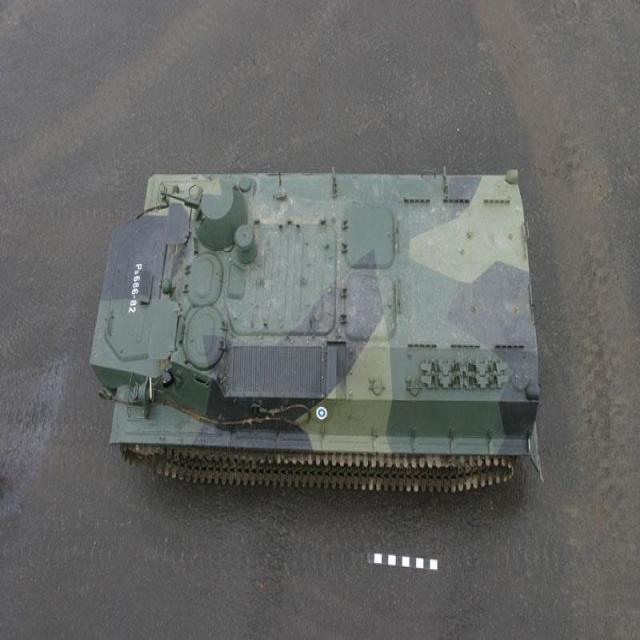Tanks: (90, 152, 545, 522)
